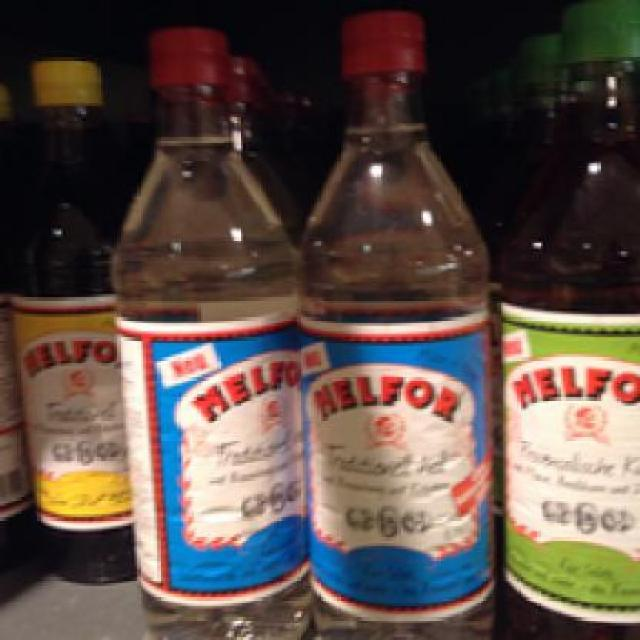Vinegar: (88, 22, 314, 638), (297, 13, 506, 630), (8, 53, 152, 590), (508, 9, 638, 600)
